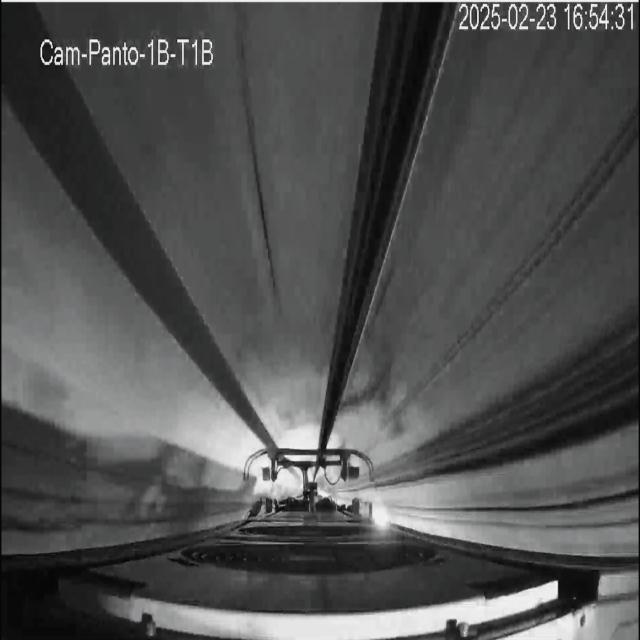Camera Stamp: (34, 27, 216, 72)
Date Stamp: (458, 3, 634, 33)
No - Spark: (246, 407, 355, 514)
